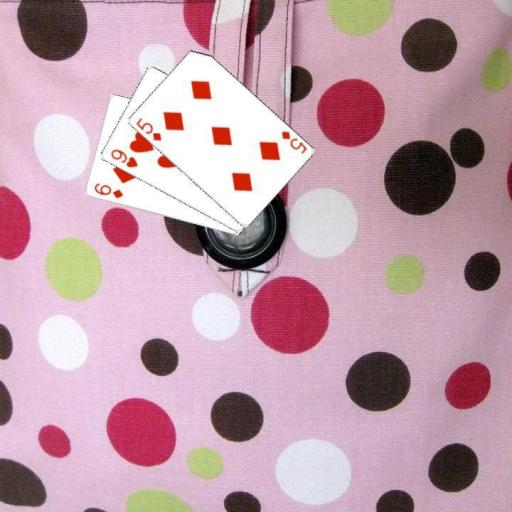card-corner: (278, 128, 308, 156), (132, 115, 163, 142), (107, 146, 139, 169), (91, 180, 124, 200)
